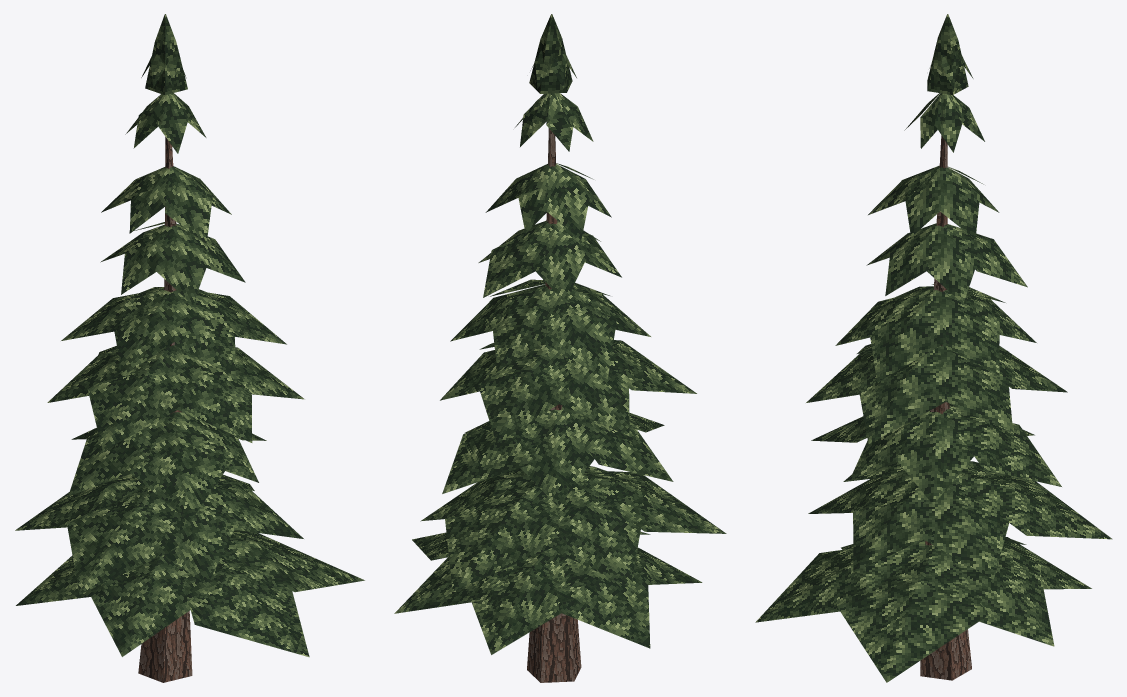
The model's file is TREE_Spruce_A_LOD2.glb.
3 views of the same model, side by side, from view 1: azimuth 30°, elevation 25°; view 2: azimuth 150°, elevation 25°; view 3: azimuth 270°, elevation 25° (orthographic).
Visible parts, largest first — view 1: TREE_Spruce_A_LOD2__Foliage, TREE_Spruce_A_LOD2__Bark; view 2: TREE_Spruce_A_LOD2__Foliage, TREE_Spruce_A_LOD2__Bark; view 3: TREE_Spruce_A_LOD2__Foliage, TREE_Spruce_A_LOD2__Bark.
Boxes of the visible parts, <box> form: TREE_Spruce_A_LOD2__Foliage: <box>15,14,364,657</box>; TREE_Spruce_A_LOD2__Bark: <box>138,137,192,682</box>; TREE_Spruce_A_LOD2__Foliage: <box>394,14,726,654</box>; TREE_Spruce_A_LOD2__Bark: <box>527,128,581,682</box>; TREE_Spruce_A_LOD2__Foliage: <box>755,14,1112,682</box>; TREE_Spruce_A_LOD2__Bark: <box>920,135,971,680</box>.
Bounding box in the file's own units: 6.38 × 13.33 × 6.6.
Materials: 2 (2 with a texture image).
